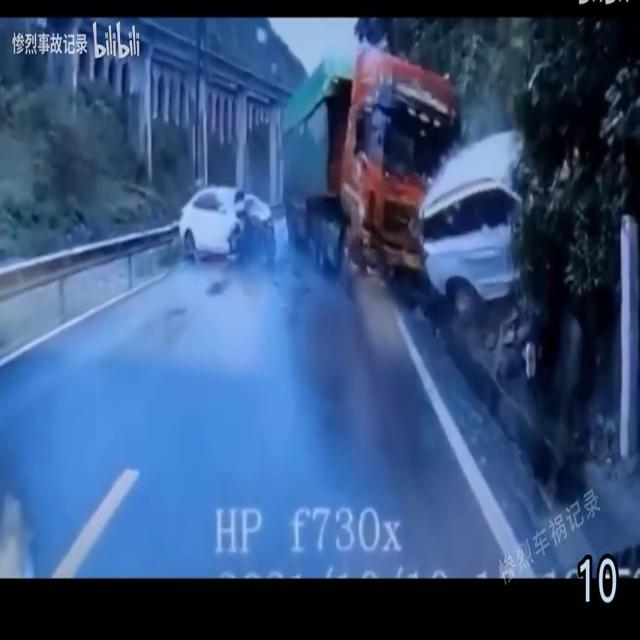multiple_accident: (153, 27, 455, 317), (491, 12, 639, 409)
